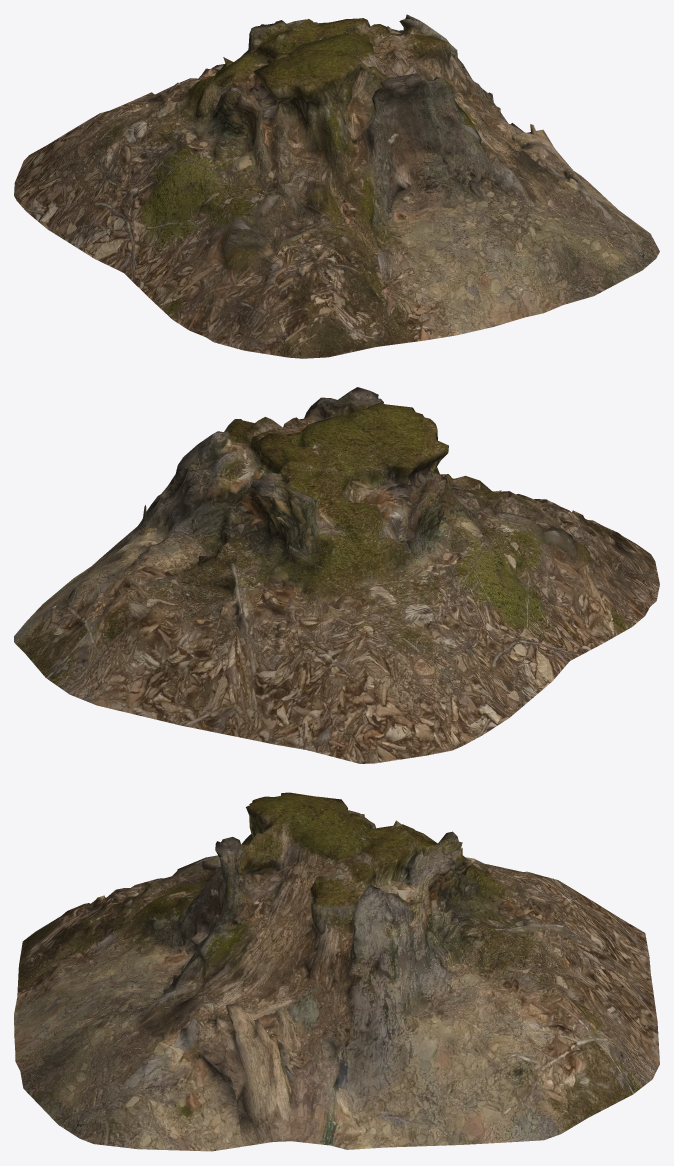
The model's file is tree_stump_01.glb.
The picture shows the model from 3 angles, top to bottom: view 1: azimuth 30°, elevation 25°; view 2: azimuth 150°, elevation 25°; view 3: azimuth 270°, elevation 25°; orthographic projection. The views are drawn at different scales.
Visible parts, largest first — view 1: tree_stump_01; view 2: tree_stump_01; view 3: tree_stump_01.
Boxes of the visible parts, x1,y1,x2,y2 form: tree_stump_01: [14, 14, 659, 358]; tree_stump_01: [14, 387, 659, 763]; tree_stump_01: [14, 792, 659, 1151].
Bounding box in the file's own units: 1.43 × 0.571 × 1.59.
1 material, 1 textured.
